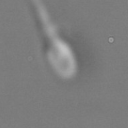abnormal: (22, 1, 76, 44)
